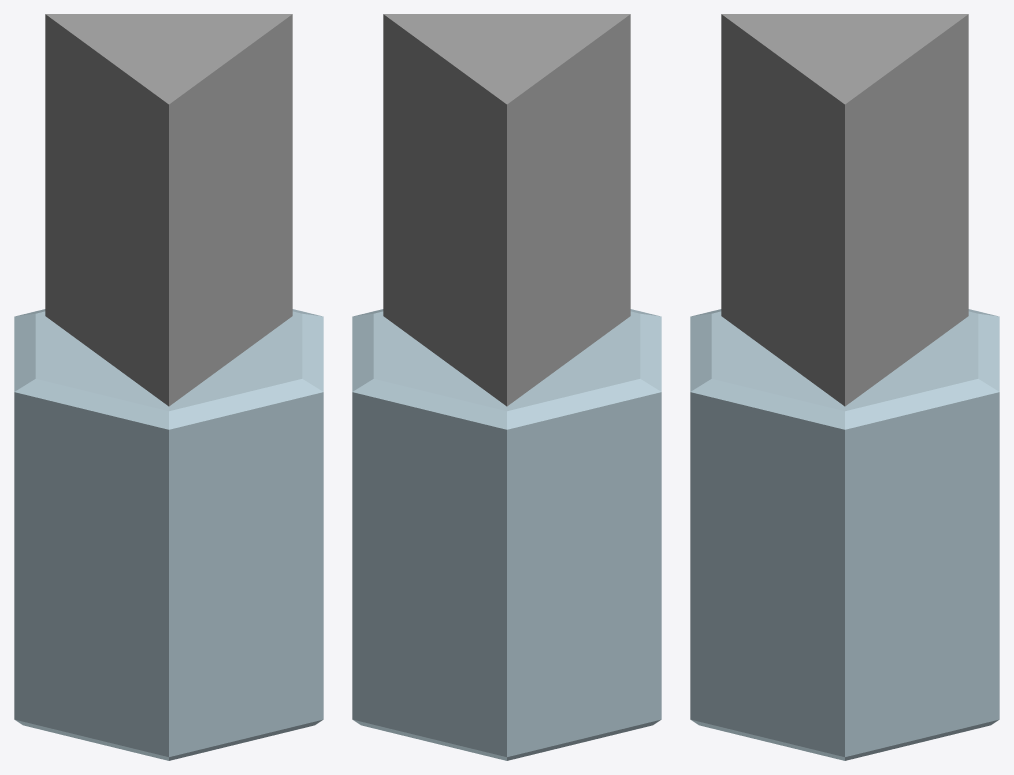
File: TriangleMirrorTileCollide.fbx
3 views of the same model, side by side, from view 1: azimuth 30°, elevation 25°; view 2: azimuth 150°, elevation 25°; view 3: azimuth 270°, elevation 25° (orthographic).
Visible parts, largest first — view 1: Hex, pCylinder2; view 2: Hex, pCylinder2; view 3: Hex, pCylinder2.
Part boxes in pixels (<box>): Hex: <box>14,309,323,760</box>; pCylinder2: <box>45,14,292,406</box>; Hex: <box>352,309,661,760</box>; pCylinder2: <box>383,14,630,406</box>; Hex: <box>690,309,999,760</box>; pCylinder2: <box>721,14,968,406</box>.
Bounding box in the file's own units: 10 × 19.94 × 8.66.
